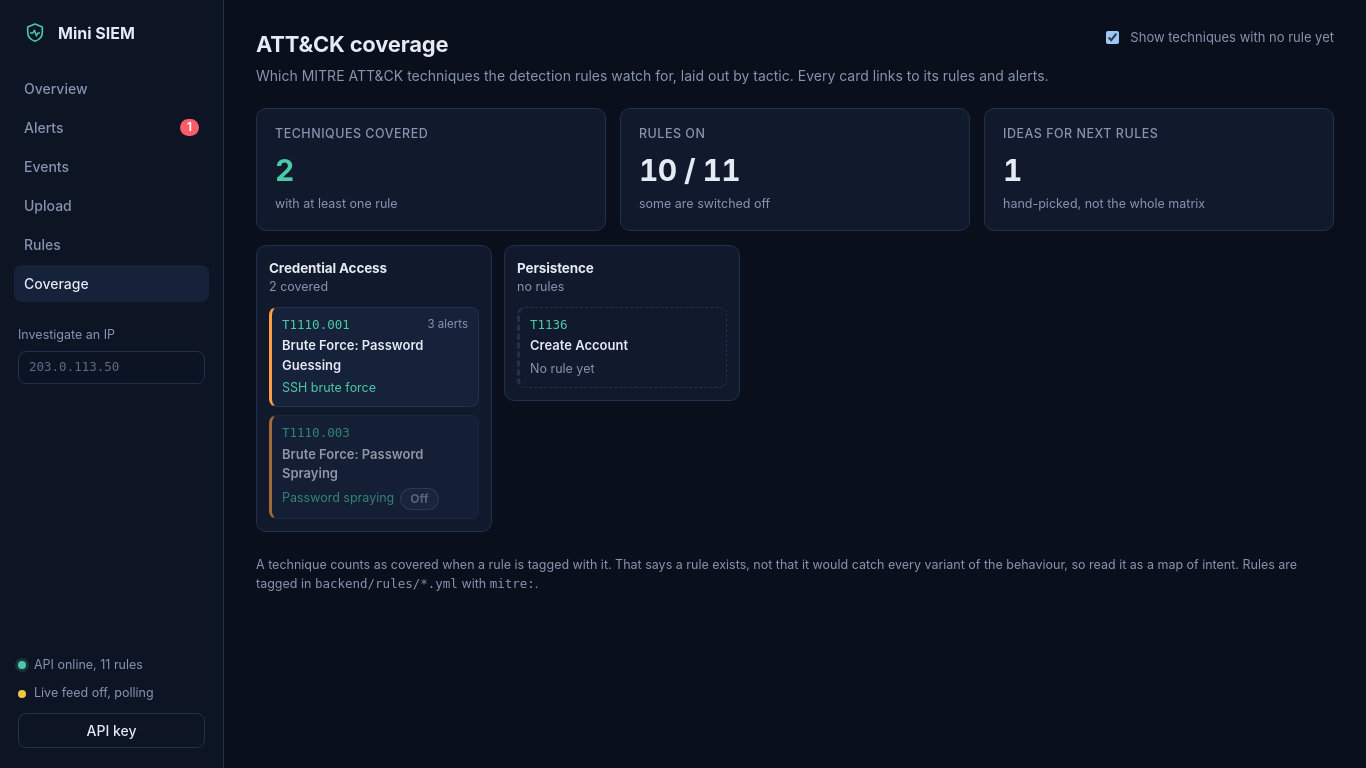
Test: Coverage › shows techniques with no rule yet, and can hide them
The width and height of the screenshot is (1366, 768).
Expected: the text "Create Account" is shown, [530,337,628,353]
Expected: the text "No rule yet" is shown, [530,361,594,376]
What coordinates should you click on to do the following:
click the checkbox labelled "Show techniques with no rule yet"
I would click on:
 (1113, 38)
Its box is [1106,31,1119,44].
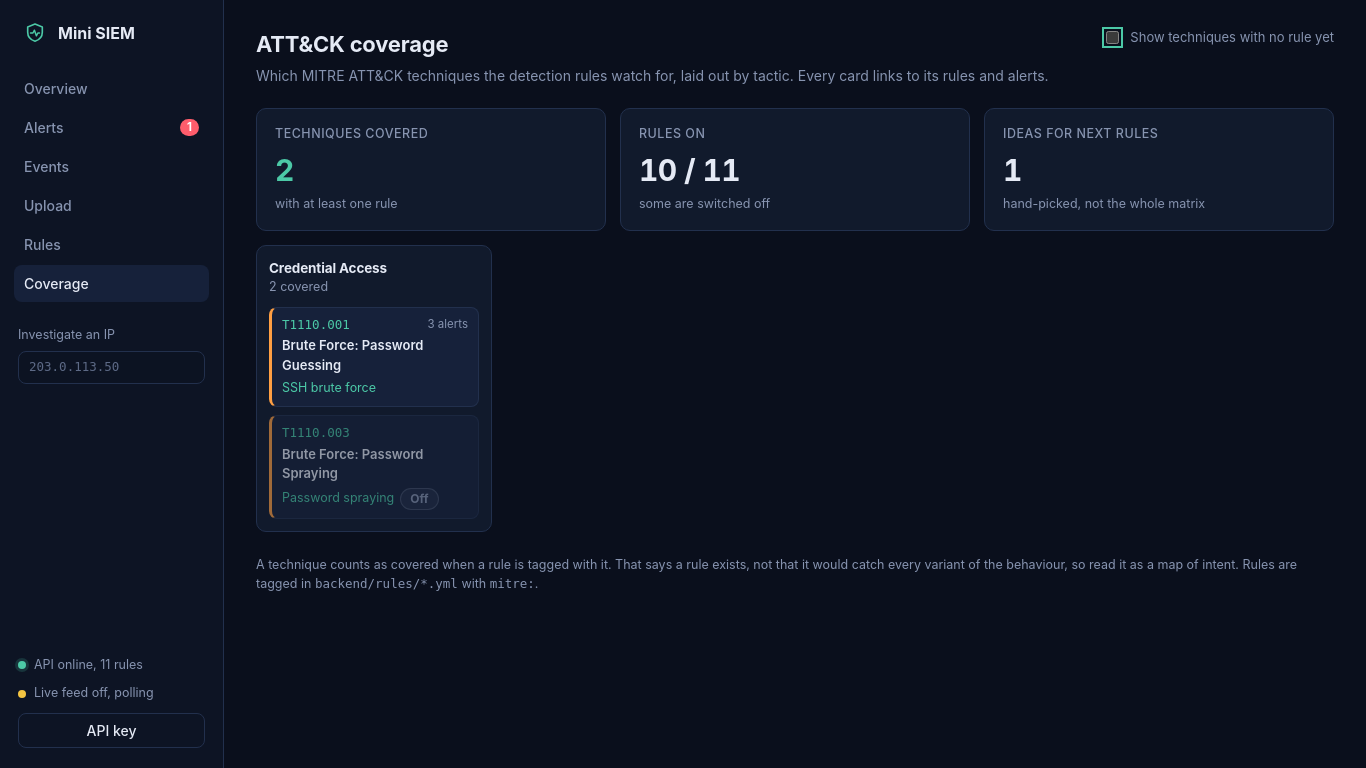
Now the text "Create Account" is gone
Now the heading "Persistence" is gone
